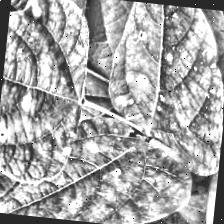Bean Rust: (100, 0, 224, 180), (0, 122, 179, 224), (0, 0, 92, 188)
